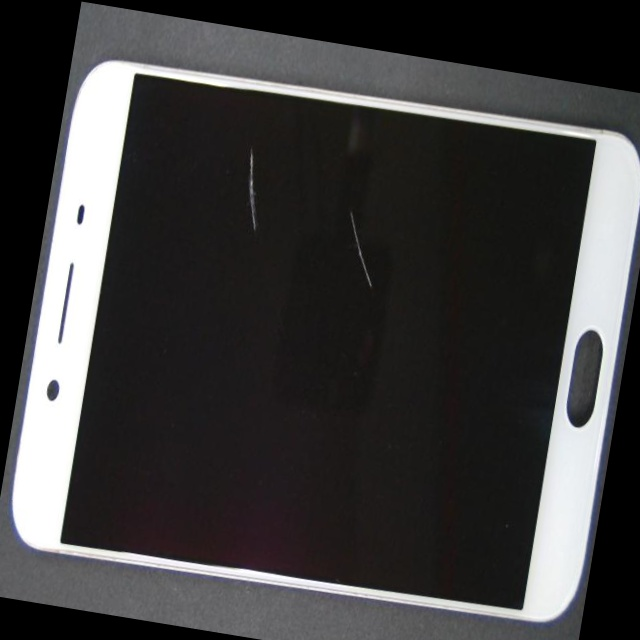scratch: (223, 197, 537, 382), (168, 142, 372, 276)
